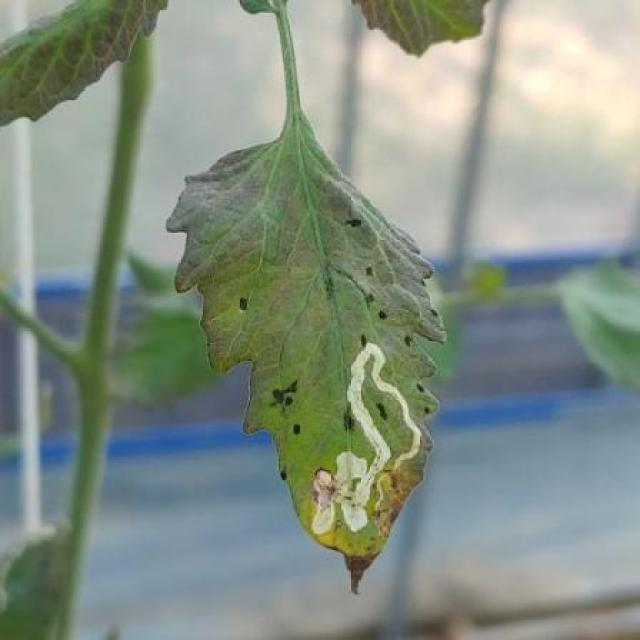Leaf Miner: (167, 114, 447, 594)
